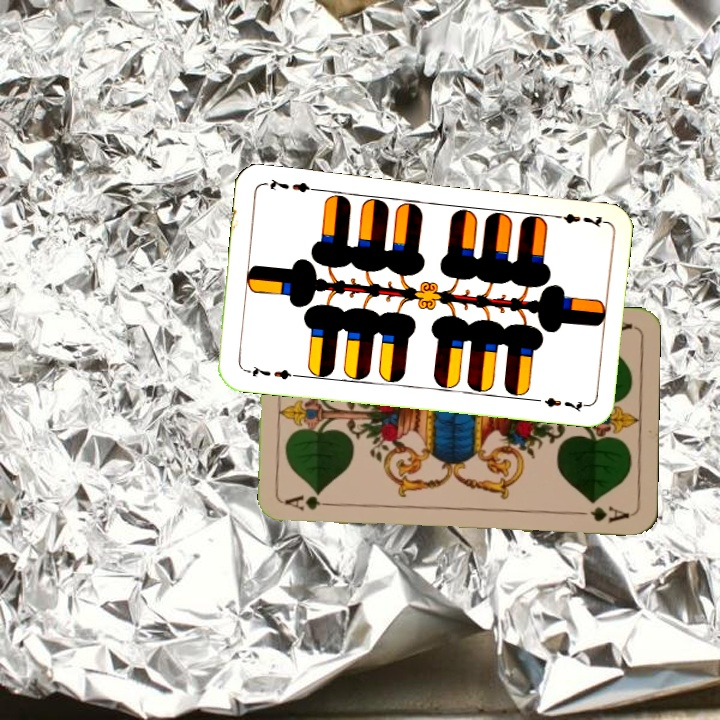E7: (241, 361, 300, 382), (548, 210, 607, 230)
GA: (282, 495, 341, 513)
